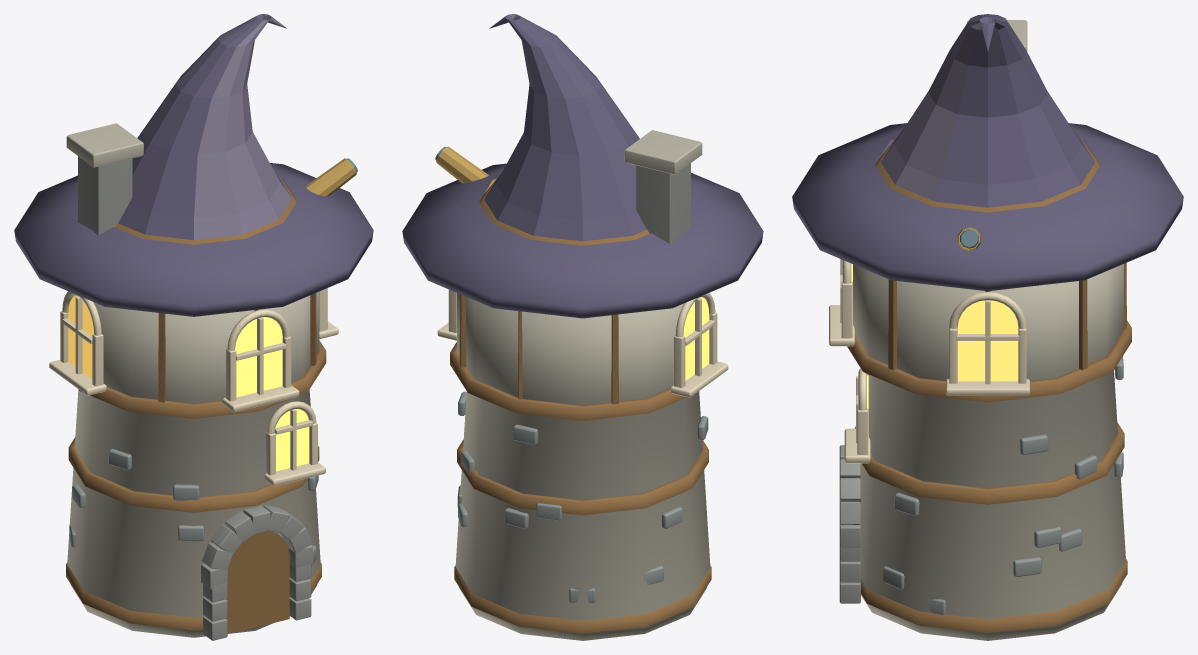
File: tower.glb
3 views of the same model, side by side, from view 1: azimuth 30°, elevation 25°; view 2: azimuth 150°, elevation 25°; view 3: azimuth 270°, elevation 25° (orthographic). The views are drawn at different scales.
Visible parts, largest first — view 1: tower__Tower_limestone, tower__Slate_roof, tower__Slate_roof.001, tower__Tower_timber, tower__Arch_keystone, tower__Limestone_trim, tower__Warm_window, tower__Tower_stone_patch, tower__Telescope_brass; view 2: tower__Tower_limestone, tower__Slate_roof, tower__Slate_roof.001, tower__Tower_timber, tower__Limestone_trim, tower__Arch_keystone, tower__Tower_stone_patch, tower__Warm_window, tower__Telescope_brass; view 3: tower__Tower_limestone, tower__Slate_roof, tower__Slate_roof.001, tower__Tower_timber, tower__Limestone_trim, tower__Warm_window, tower__Tower_stone_patch, tower__Arch_keystone.
Boxes of the visible parts, left/top/right/bottom form: tower__Tower_limestone: left=66, top=123, right=320, bottom=637; tower__Slate_roof: left=14, top=163, right=373, bottom=316; tower__Slate_roof.001: left=118, top=14, right=292, bottom=240; tower__Tower_timber: left=66, top=177, right=326, bottom=633; tower__Arch_keystone: left=78, top=156, right=312, bottom=640; tower__Limestone_trim: left=49, top=288, right=338, bottom=486; tower__Warm_window: left=68, top=296, right=309, bottom=471; tower__Tower_stone_patch: left=69, top=449, right=318, bottom=566; tower__Telescope_brass: left=306, top=158, right=356, bottom=196; tower__Tower_limestone: left=455, top=130, right=710, bottom=640; tower__Slate_roof: left=402, top=163, right=763, bottom=318; tower__Slate_roof.001: left=484, top=14, right=646, bottom=241; tower__Tower_timber: left=450, top=178, right=711, bottom=633; tower__Limestone_trim: left=437, top=289, right=728, bottom=397; tower__Arch_keystone: left=636, top=163, right=690, bottom=243; tower__Tower_stone_patch: left=457, top=391, right=708, bottom=603; tower__Warm_window: left=683, top=297, right=709, bottom=380; tower__Telescope_brass: left=436, top=146, right=495, bottom=196; tower__Tower_limestone: left=853, top=20, right=1125, bottom=640; tower__Slate_roof: left=792, top=123, right=1183, bottom=291; tower__Slate_roof.001: left=881, top=14, right=1094, bottom=207; tower__Tower_timber: left=847, top=139, right=1131, bottom=633; tower__Limestone_trim: left=829, top=259, right=1029, bottom=463; tower__Warm_window: left=851, top=263, right=1018, bottom=451; tower__Tower_stone_patch: left=883, top=356, right=1123, bottom=615; tower__Arch_keystone: left=839, top=445, right=860, bottom=603.
Bounding box in the file's own units: 4.24 × 7.18 × 4.24.
